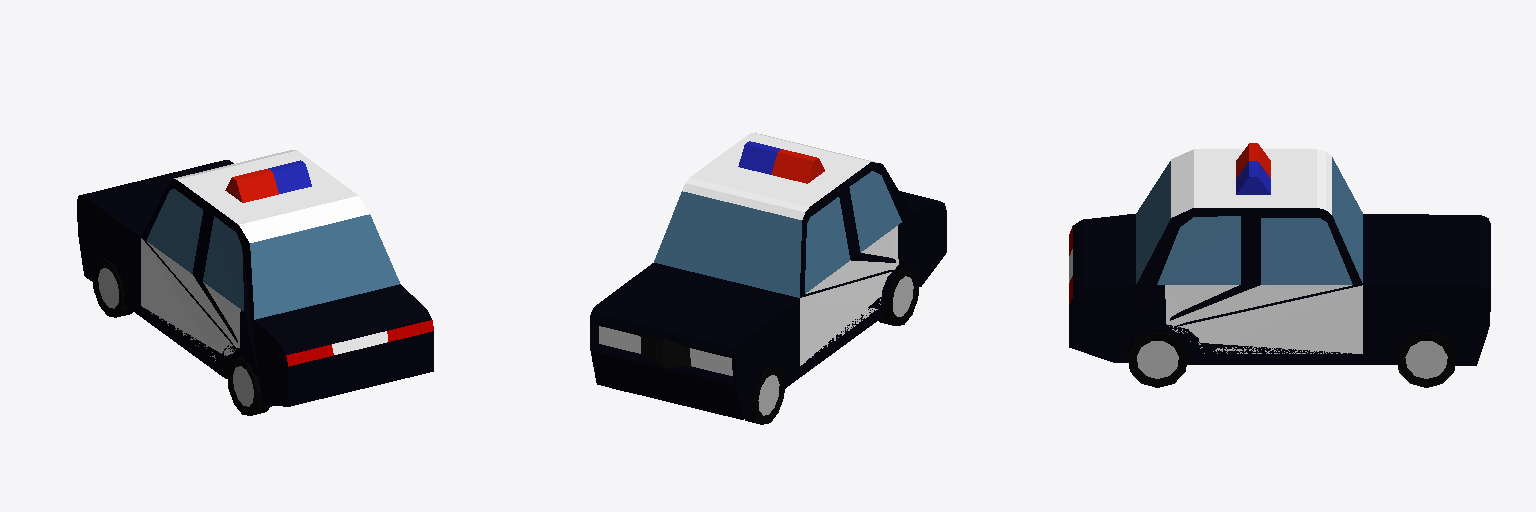
Rendered from car3.obj.
3 renders of one model, left to right at view 1: azimuth 30°, elevation 25°; view 2: azimuth 150°, elevation 25°; view 3: azimuth 270°, elevation 25°, orthographic.
Parts seen in each view (by area): view 1: car_police.008_Cube.7823; view 2: car_police.008_Cube.7823; view 3: car_police.008_Cube.7823.
Part boxes in pixels (x1,y1,x2,y2): car_police.008_Cube.7823: (77, 150, 433, 415); car_police.008_Cube.7823: (590, 133, 946, 424); car_police.008_Cube.7823: (1069, 143, 1490, 387).
Size of the model in its own units: 1.73 by 2.09 by 4.19.